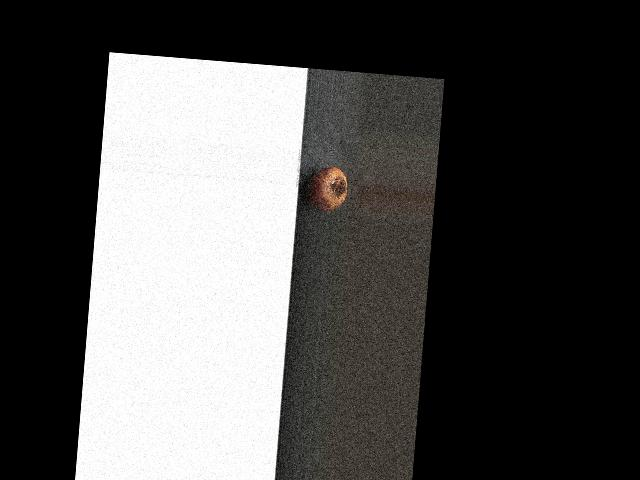beet: (305, 165, 348, 214)
